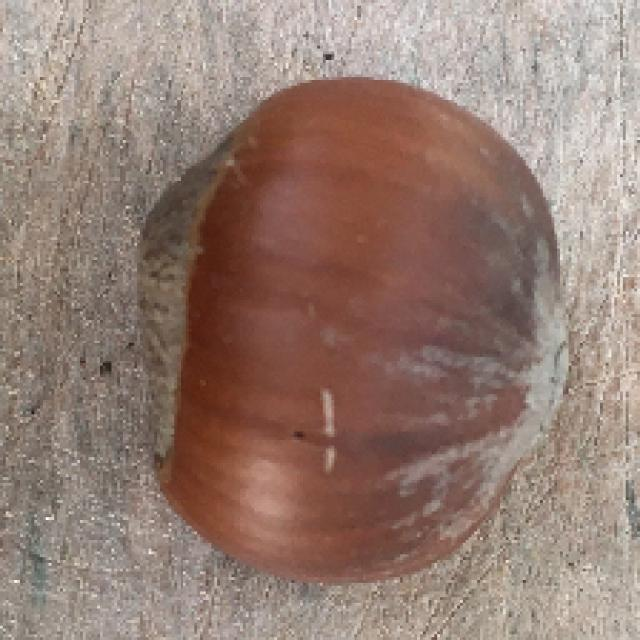DamagedHazelnut: (135, 76, 570, 580)
